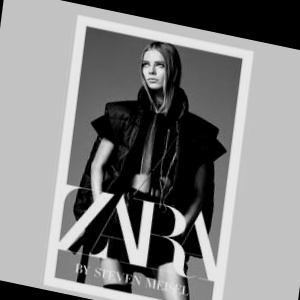zara: (179, 120, 278, 300)
